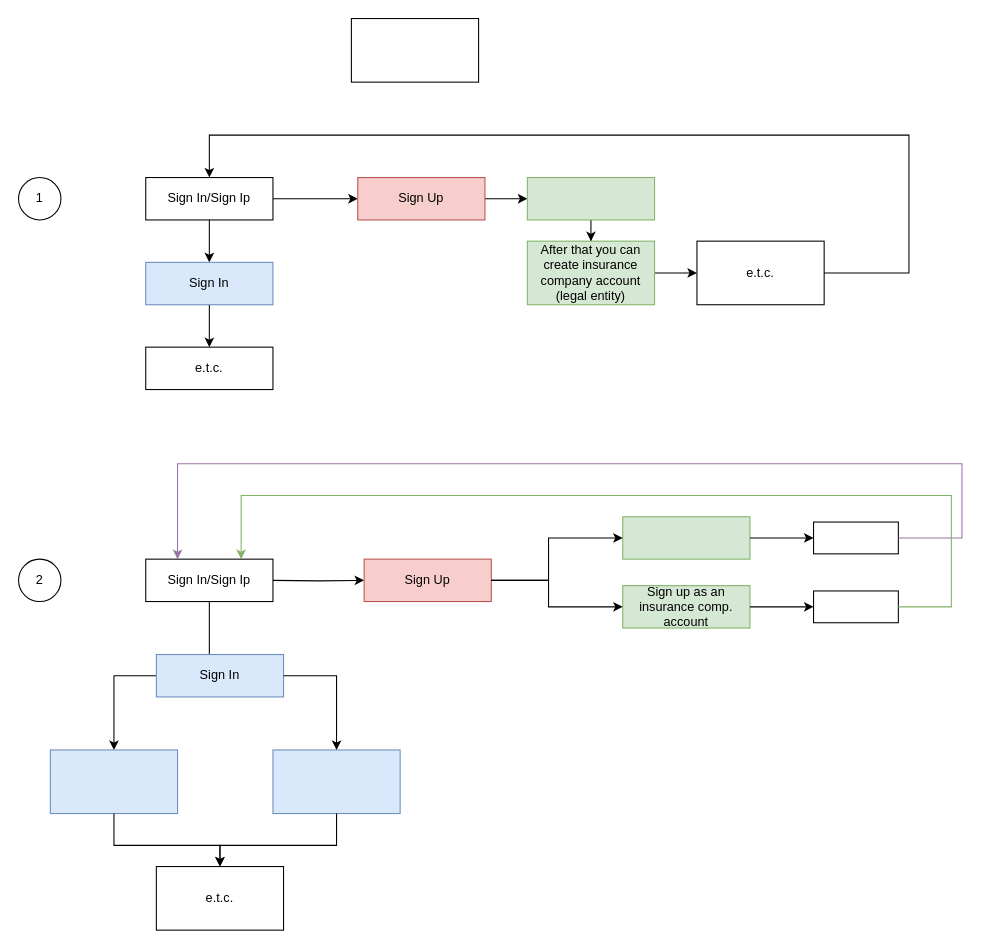
Image size: 989x949. Some labels were removed from this diagram. Here are the shapes that lost their labels. From the top down, the centre of each, then its label:
At (x=414, y=49): "User-to-Insurance-Company".
At (x=590, y=198): "Sign up.".
At (x=686, y=537): "Sign up as a user".
At (x=855, y=537): "e.t.c. 1".
At (x=855, y=606): "e.t.c. 2".
At (x=113, y=781): "Sign in as a user".
At (x=336, y=781): "Sign in as an insurance company (legal entity)".
